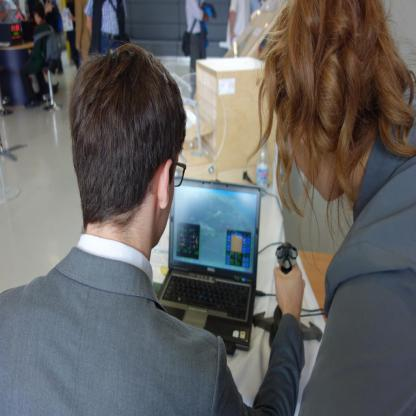board: (158, 180, 265, 348), (256, 138, 270, 196)
